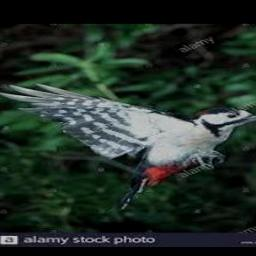Woodpecker: (0, 82, 256, 210)
